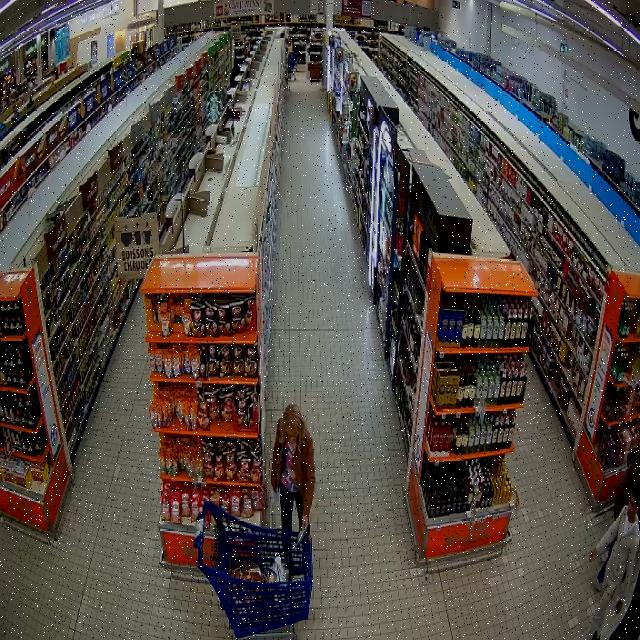article: (297, 526, 308, 542)
hands: (615, 601, 623, 612), (589, 549, 596, 561), (303, 516, 308, 530)
person: (585, 484, 639, 639), (271, 404, 315, 529)
